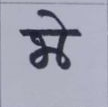e_matra: (37, 10, 71, 29)
